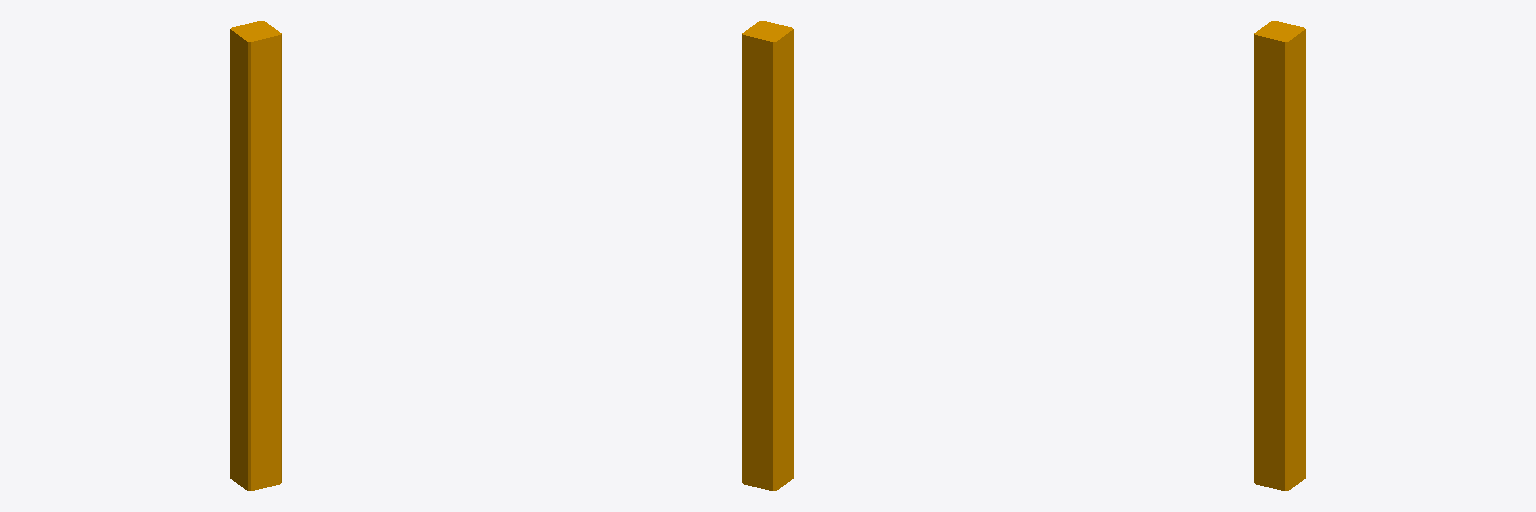
The robot description file, URDF, robot "factory_rectangular_peg_4mm_loose":
<?xml version="1.0"?>
<robot name="factory_rectangular_peg_4mm_loose">
    <link name="factory_rectangular_peg_4mm_loose">
        <visual>
            <geometry>
                <mesh filename="../mesh/factory_insertion/factory_rectangular_peg_4mm_loose_subdiv_3x.obj"/>
            </geometry>
        </visual>
        <collision>
            <geometry>
                <mesh filename="../mesh/factory_insertion/factory_rectangular_peg_4mm_loose_subdiv_3x.obj"/>
            </geometry>
            <sdf resolution="256"/>
        </collision>
    </link>
</robot>

--- What the picture shows (computed from the rendered views, not written in the file) ---
Views: 3 orthographic renders of the robot side by side, from view 1: azimuth 30°, elevation 25°; view 2: azimuth 150°, elevation 25°; view 3: azimuth 330°, elevation 25°.
Model factory_rectangular_peg_4mm_loose with 1 links and 0 joints (none), rooted at factory_rectangular_peg_4mm_loose, posed every joint at zero.
Links seen in each view (by area): view 1: factory_rectangular_peg_4mm_loose; view 2: factory_rectangular_peg_4mm_loose; view 3: factory_rectangular_peg_4mm_loose.
Link boxes in pixels (x1,y1,x2,y2): factory_rectangular_peg_4mm_loose: (230,21,281,490); factory_rectangular_peg_4mm_loose: (742,21,793,490); factory_rectangular_peg_4mm_loose: (1254,21,1305,490).
Bounding box of the posed robot: 0.004 × 0.004 × 0.05 m (x, y, z).
Meshes: 1 distinct files referenced, 1 mesh visuals loaded (1 OBJ).